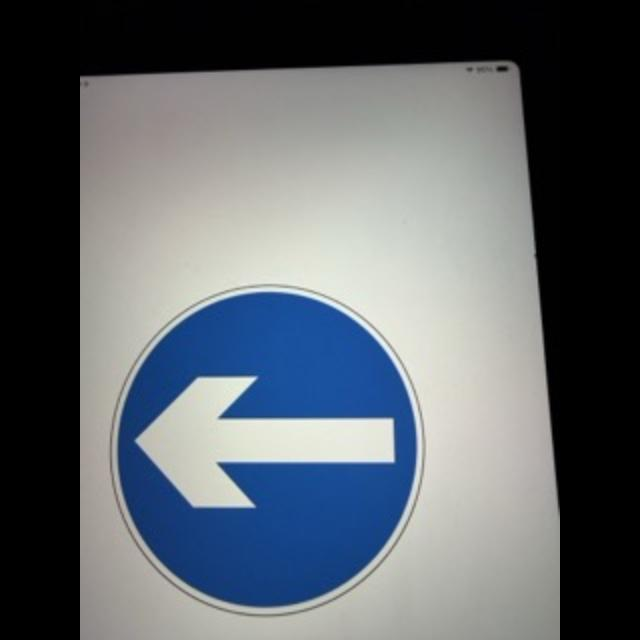TURN LEFT: (109, 282, 427, 618)
